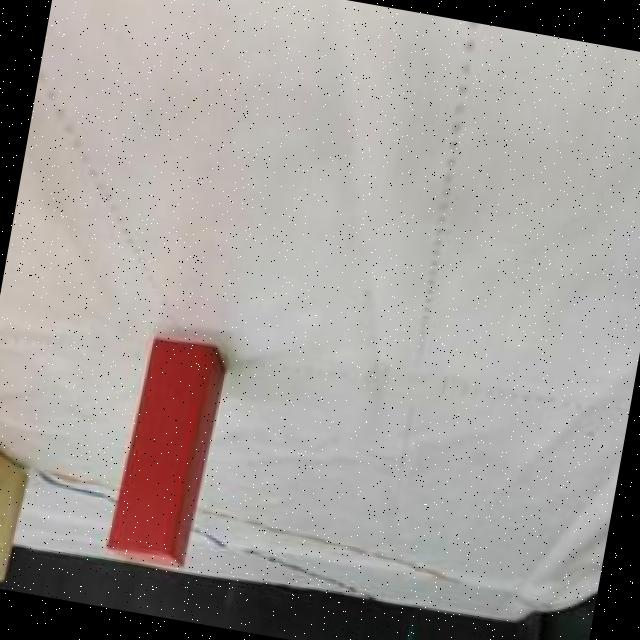redbox: (104, 330, 228, 572)
